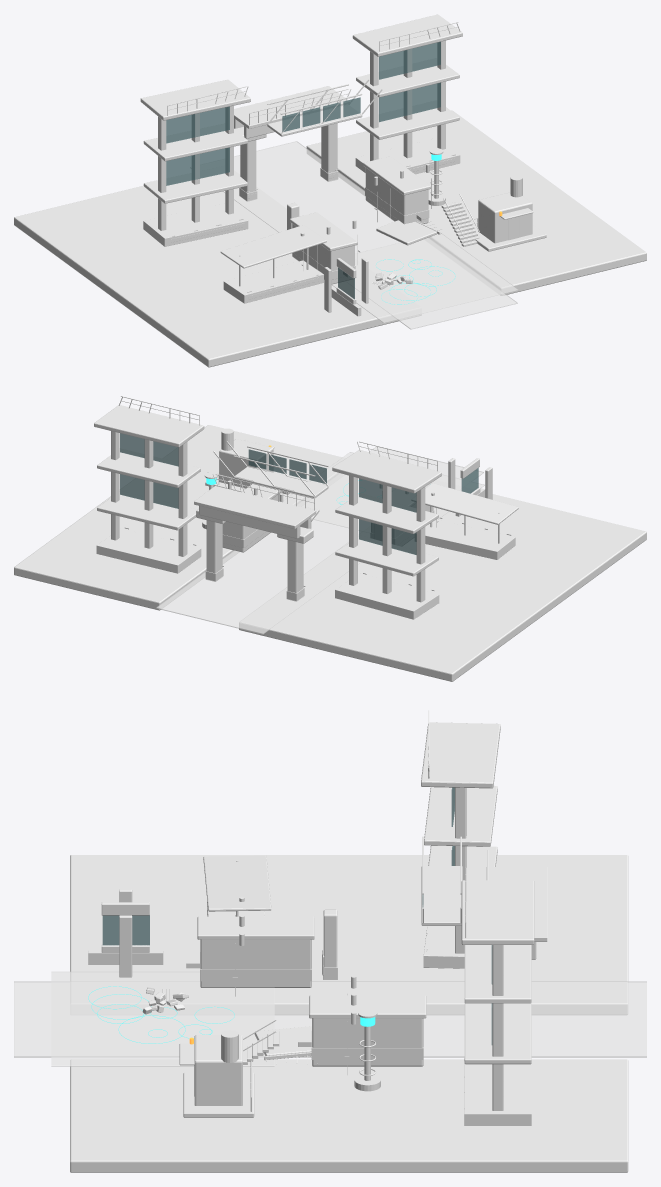
File: ENV_FC01_DrownedTransitDistrict.glb
The picture shows the model from 3 angles, top to bottom: view 1: azimuth 30°, elevation 25°; view 2: azimuth 150°, elevation 25°; view 3: azimuth 270°, elevation 25°; orthographic projection. The views are drawn at different scales.
Visible parts, largest first — view 1: District_LeftBank, District_RightBank, District_CanalWater, SM_FC01_Water_TurbidPlane_A_Surface, SM_FC01_Building_TransitFacade_A_Roof.001, SM_FC01_Building_TransitFacade_A_Roof, SM_FC01_Building_TransitFacade_A_WetBand, SM_FC01_Station_Canopy_A_WetBand, SM_FC01_Infrastructure_ViaductSpan_A_Deck, SM_FC01_Station_Canopy_A_Roof, SM_FC01_Building_TransitFacade_A_Slab_1.001, SM_FC01_Building_TransitFacade_A_Slab_1 (+18 smaller); view 2: District_LeftBank, District_RightBank, District_CanalWater, SM_FC01_Infrastructure_ViaductSpan_A_Deck, SM_FC01_Building_TransitFacade_A_WetBand.001, SM_FC01_Building_TransitFacade_A_Roof.001, SM_FC01_Building_TransitFacade_A_Roof, SM_FC01_Building_TransitFacade_A_WetBand, SM_FC01_Station_Canopy_A_WetBand, SM_FC01_Water_TurbidPlane_A_Surface, SM_FC01_Station_Canopy_A_Roof, SM_FC01_Building_TransitFacade_A_Slab_2.001 (+13 smaller); view 3: District_RightBank, District_LeftBank, District_CanalWater, SM_FC01_Water_TurbidPlane_A_Surface, SM_FC01_Building_TransitFacade_A_Roof.001, SM_FC01_Building_TransitFacade_A_Roof, SM_FC01_Civil_Seawall_A_Caisson, SM_FC01_Civil_Seawall_A_Caisson.001, SM_FC01_Building_TransitFacade_A_WetBand.001, SM_FC01_Building_TransitFacade_A_Slab_1.001, SM_FC01_Station_Canopy_A_Roof, SM_FC01_Building_TransitFacade_A_Slab_2.001 (+17 smaller).
Part boxes in pixels (left/top/right/bottom): District_LeftBank: left=14, top=170, right=421, bottom=367; District_RightBank: left=306, top=110, right=646, bottom=295; District_CanalWater: left=190, top=141, right=517, bottom=329; SM_FC01_Water_TurbidPlane_A_Surface: left=332, top=232, right=518, bottom=322; SM_FC01_Building_TransitFacade_A_Roof.001: left=352, top=14, right=462, bottom=56; SM_FC01_Building_TransitFacade_A_Roof: left=140, top=79, right=250, bottom=120; SM_FC01_Building_TransitFacade_A_WetBand: left=143, top=203, right=248, bottom=246; SM_FC01_Station_Canopy_A_WetBand: left=223, top=260, right=323, bottom=303; SM_FC01_Infrastructure_ViaductSpan_A_Deck: left=234, top=86, right=349, bottom=128; SM_FC01_Station_Canopy_A_Roof: left=220, top=225, right=326, bottom=268; SM_FC01_Building_TransitFacade_A_Slab_1.001: left=356, top=100, right=459, bottom=139; SM_FC01_Building_TransitFacade_A_Slab_1: left=143, top=166, right=247, bottom=203; District_LeftBank: left=239, top=480, right=646, bottom=681; District_RightBank: left=14, top=425, right=345, bottom=610; District_CanalWater: left=156, top=446, right=483, bottom=634; SM_FC01_Infrastructure_ViaductSpan_A_Deck: left=194, top=486, right=316, bottom=528; SM_FC01_Building_TransitFacade_A_WetBand.001: left=96, top=528, right=201, bottom=573; SM_FC01_Building_TransitFacade_A_Roof.001: left=94, top=405, right=204, bottom=447; SM_FC01_Building_TransitFacade_A_Roof: left=332, top=450, right=441, bottom=493; SM_FC01_Building_TransitFacade_A_WetBand: left=335, top=573, right=439, bottom=619; SM_FC01_Station_Canopy_A_WetBand: left=415, top=519, right=515, bottom=559; SM_FC01_Water_TurbidPlane_A_Surface: left=283, top=452, right=484, bottom=530; SM_FC01_Station_Canopy_A_Roof: left=411, top=483, right=518, bottom=524; SM_FC01_Building_TransitFacade_A_Slab_2.001: left=97, top=448, right=200, bottom=487; District_RightBank: left=70, top=1059, right=628, bottom=1172; District_LeftBank: left=70, top=855, right=628, bottom=1014; District_CanalWater: left=14, top=981, right=646, bottom=1057; SM_FC01_Water_TurbidPlane_A_Surface: left=51, top=971, right=274, bottom=1066; SM_FC01_Building_TransitFacade_A_Roof.001: left=461, top=880, right=534, bottom=944; SM_FC01_Building_TransitFacade_A_Roof: left=421, top=722, right=500, bottom=788; SM_FC01_Civil_Seawall_A_Caisson: left=200, top=939, right=311, bottom=987; SM_FC01_Civil_Seawall_A_Caisson.001: left=312, top=1018, right=423, bottom=1066; SM_FC01_Building_TransitFacade_A_WetBand.001: left=464, top=1057, right=531, bottom=1125; SM_FC01_Building_TransitFacade_A_Slab_1.001: left=464, top=1003, right=531, bottom=1064; SM_FC01_Station_Canopy_A_Roof: left=203, top=855, right=271, bottom=911; SM_FC01_Building_TransitFacade_A_Slab_2.001: left=464, top=945, right=531, bottom=1003.
Bounding box in the file's own units: 39 × 12.75 × 34.
